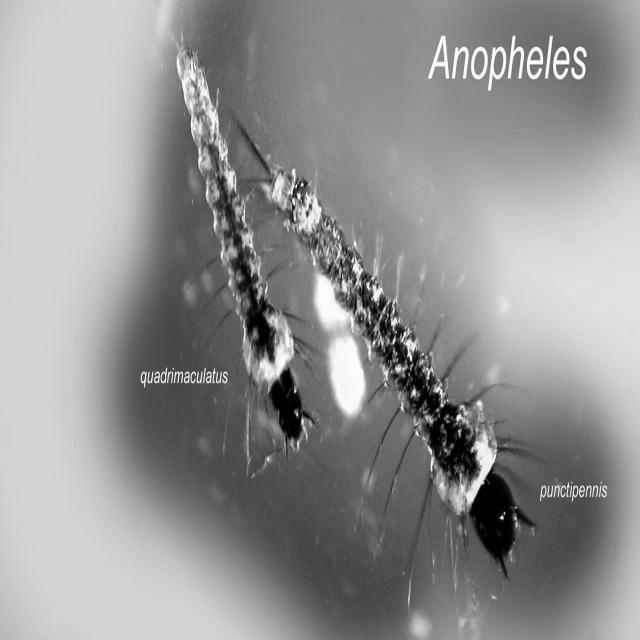larvas: (255, 125, 522, 555), (177, 48, 308, 442)
